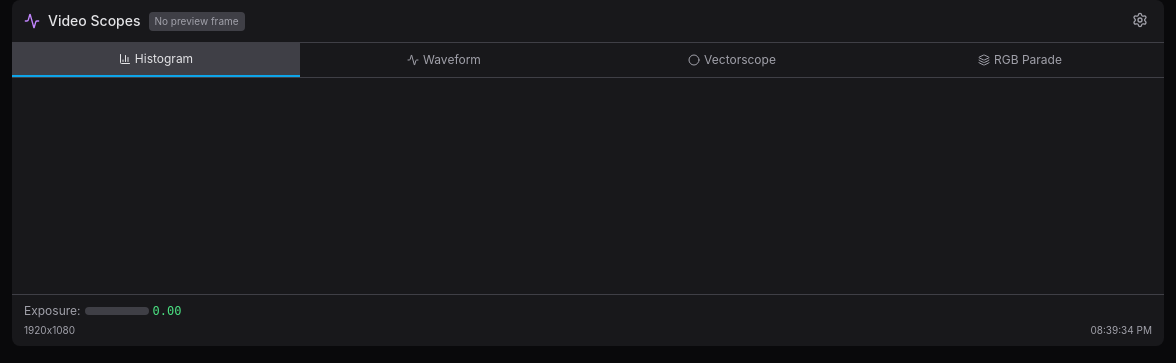
it: VideoScopesPanel › settings › should show logarithmic checkbox for histogram scope
Click the button named "settings": (1140, 20) [1128, 8, 1152, 32]
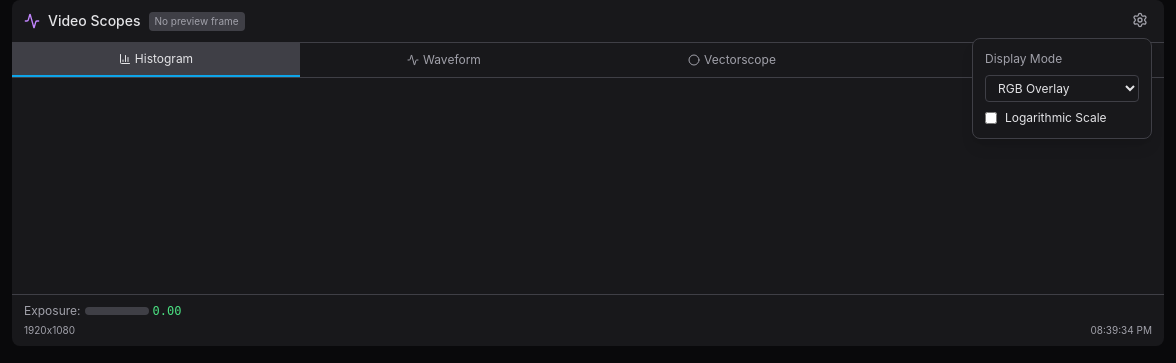
Check: the checkbox is shown, box [985, 112, 997, 124]
Check: the text "Logarithmic Scale" is shown, box [985, 110, 1107, 125]
